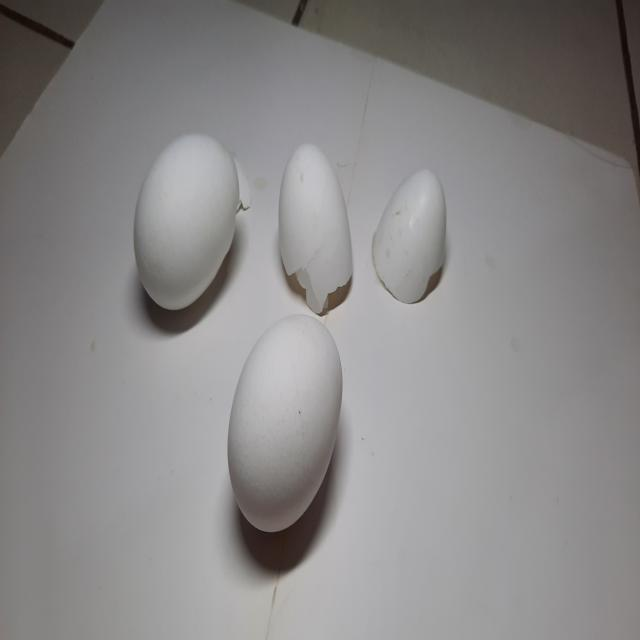egg shell: (226, 310, 345, 538), (130, 126, 258, 319), (276, 138, 356, 318), (370, 162, 450, 312)
